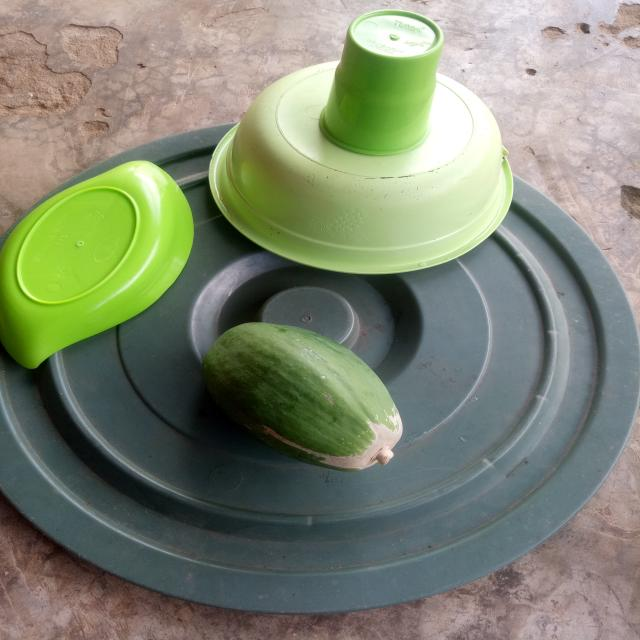Pepaya unrippen: (191, 313, 403, 478)
